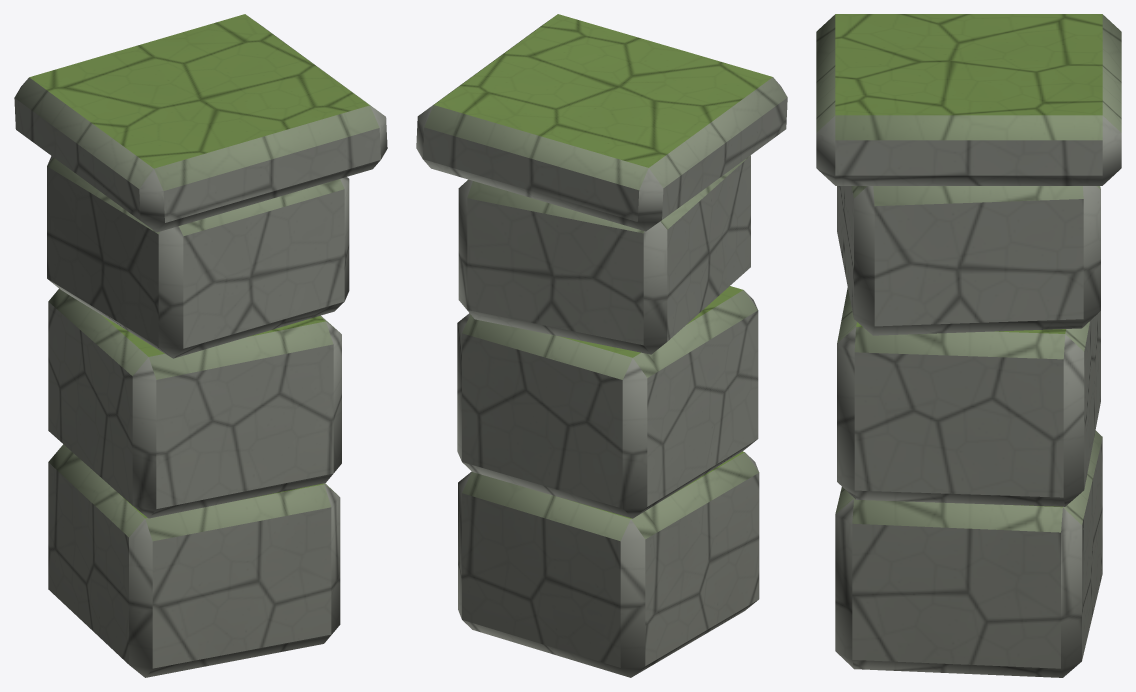
The model's file is stone_pillar_short.glb.
The picture shows the model from 3 angles, left to right: view 1: azimuth 30°, elevation 25°; view 2: azimuth 150°, elevation 25°; view 3: azimuth 270°, elevation 25°; orthographic projection. The views are drawn at different scales.
Parts seen in each view (by area): view 1: stone_pillar_short; view 2: stone_pillar_short; view 3: stone_pillar_short.
Part boxes in pixels (x1,y1,x2,y2): stone_pillar_short: (14,14,387,677); stone_pillar_short: (416,14,787,677); stone_pillar_short: (816,14,1121,677).
Size of what is drawn, in the model's own units: 1.61 by 3.32 by 1.6.
1 material, 1 textured.
